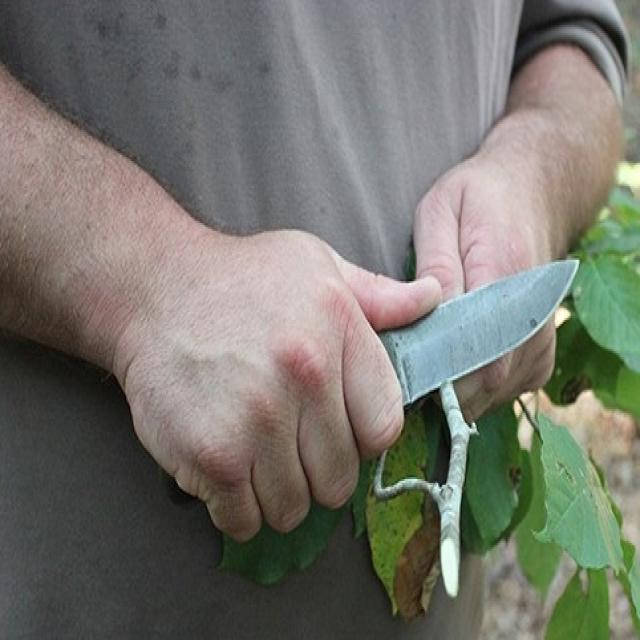knife: (378, 247, 583, 407)
